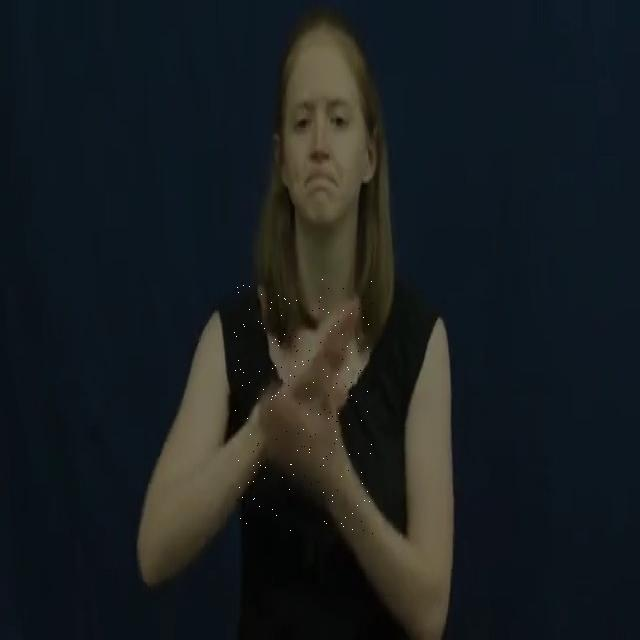fresh: (234, 279, 374, 534)
